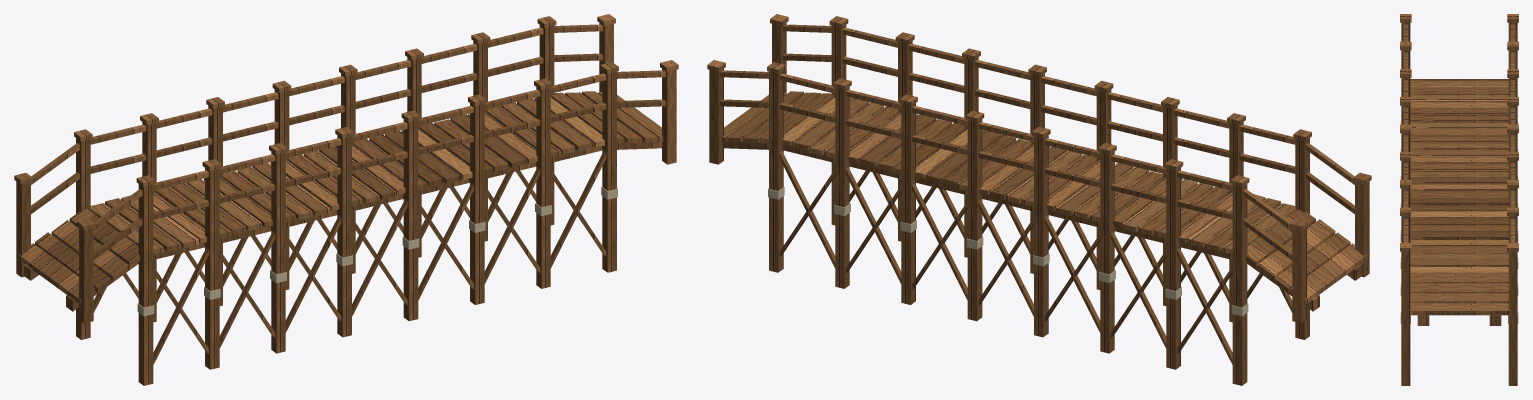
File: timber_teaching_bridge.glb
The picture shows the model from 3 angles, left to right: view 1: azimuth 30°, elevation 25°; view 2: azimuth 150°, elevation 25°; view 3: azimuth 270°, elevation 25°; orthographic projection. The views are drawn at different scales.
Parts seen in each view (by area): view 1: BridgeBody; view 2: BridgeBody; view 3: BridgeBody.
Boxes of the visible parts, box(x1,y1,x2,y2) form: BridgeBody: box(14, 14, 678, 385); BridgeBody: box(707, 14, 1371, 385); BridgeBody: box(1400, 14, 1518, 385).
Size of the model in its own units: 9 by 2.94 by 1.82.
4 materials, 3 textured.
